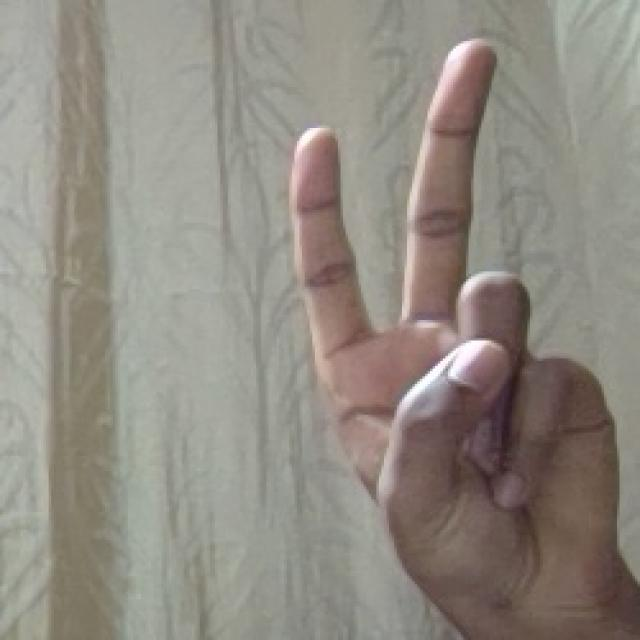Numeric-2: (291, 36, 624, 616)
